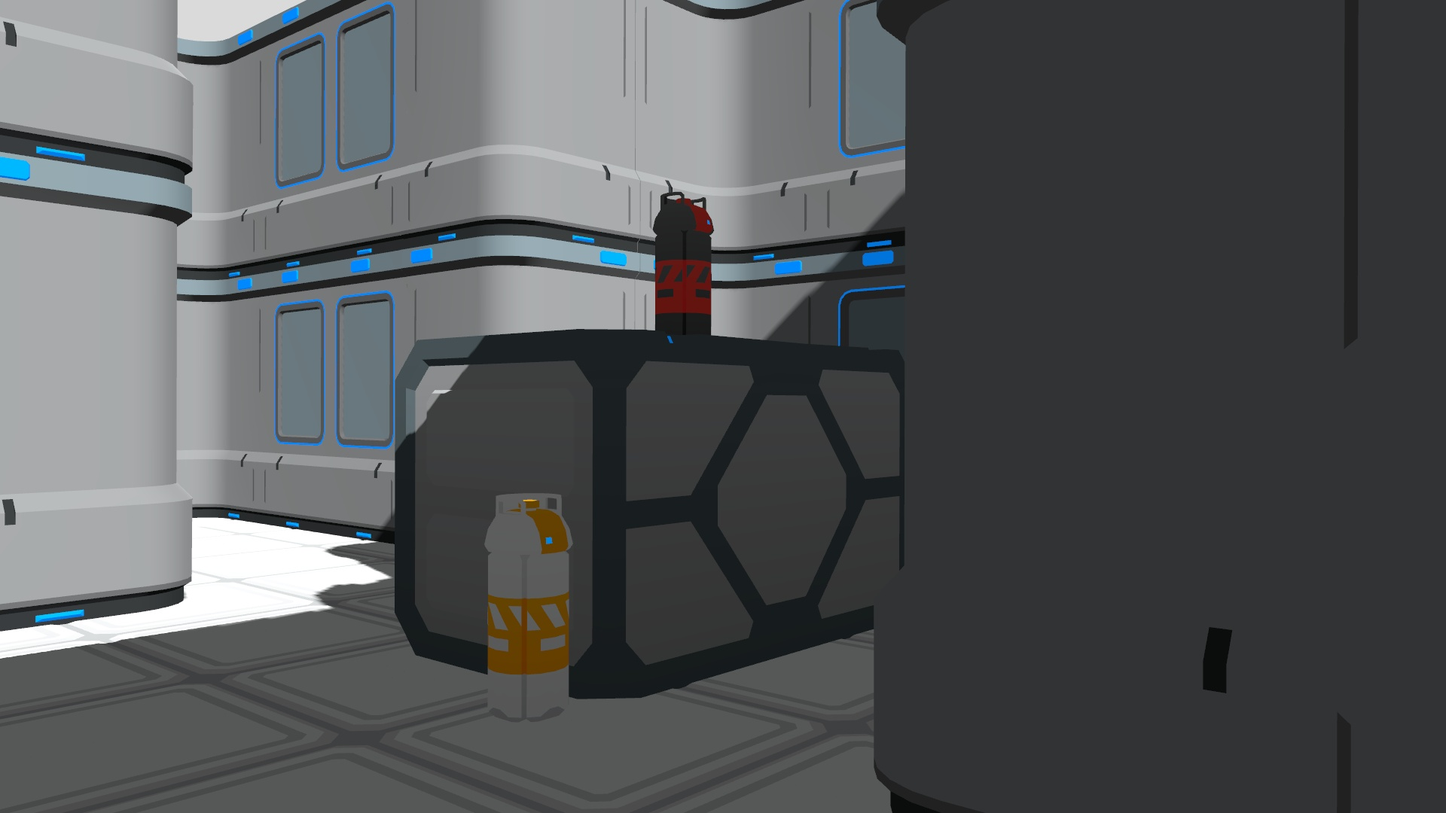red_barrel: (650, 186, 718, 343)
yellow_barrel: (479, 484, 577, 731)
